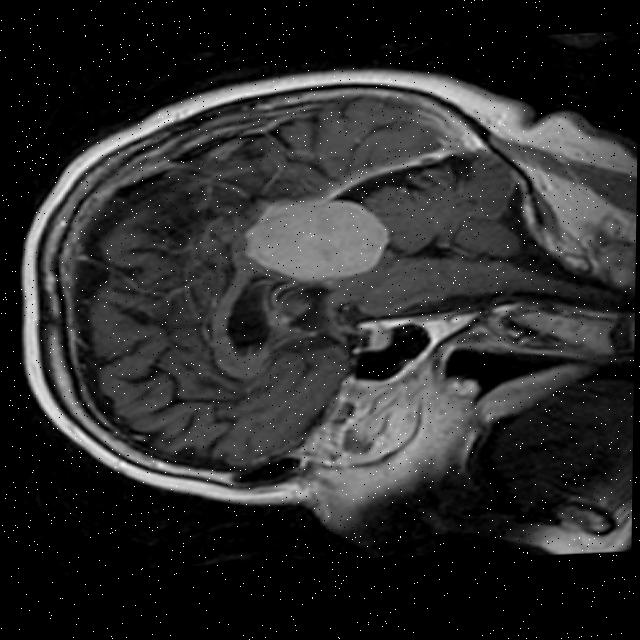Meningioma: (243, 164, 403, 284)
